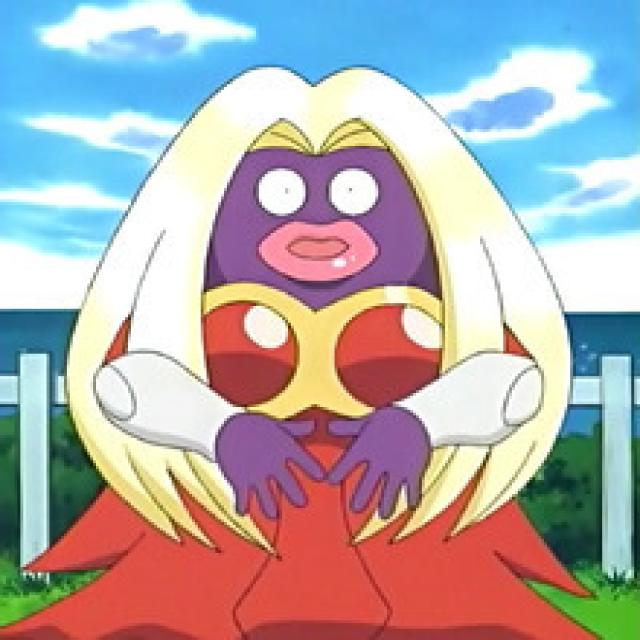Jynx: (68, 62, 560, 640)
